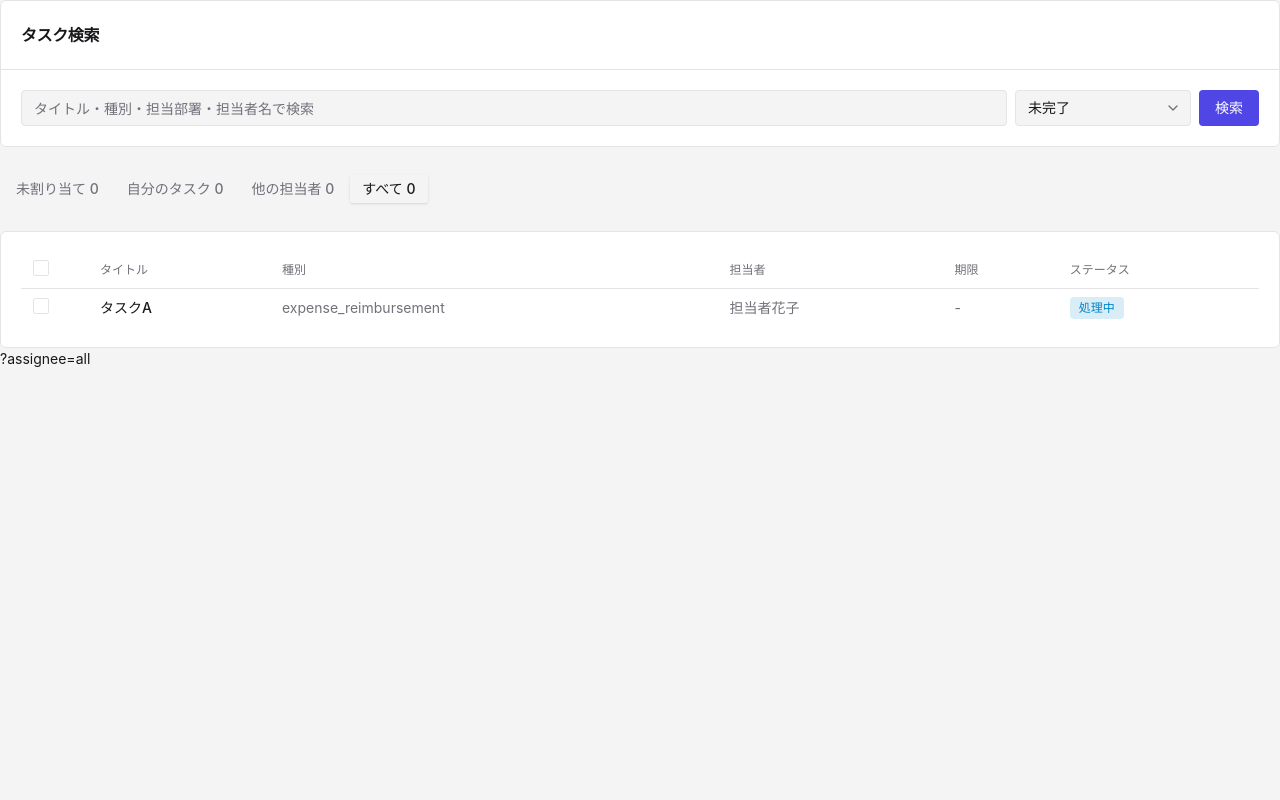
Scenario: BackOfficeTaskListPage › disables the assign action when every selected task is already assigned to the picked user
Click the checkbox named "タスクAを選択" at (41, 306), box 33,298 -> 49,314
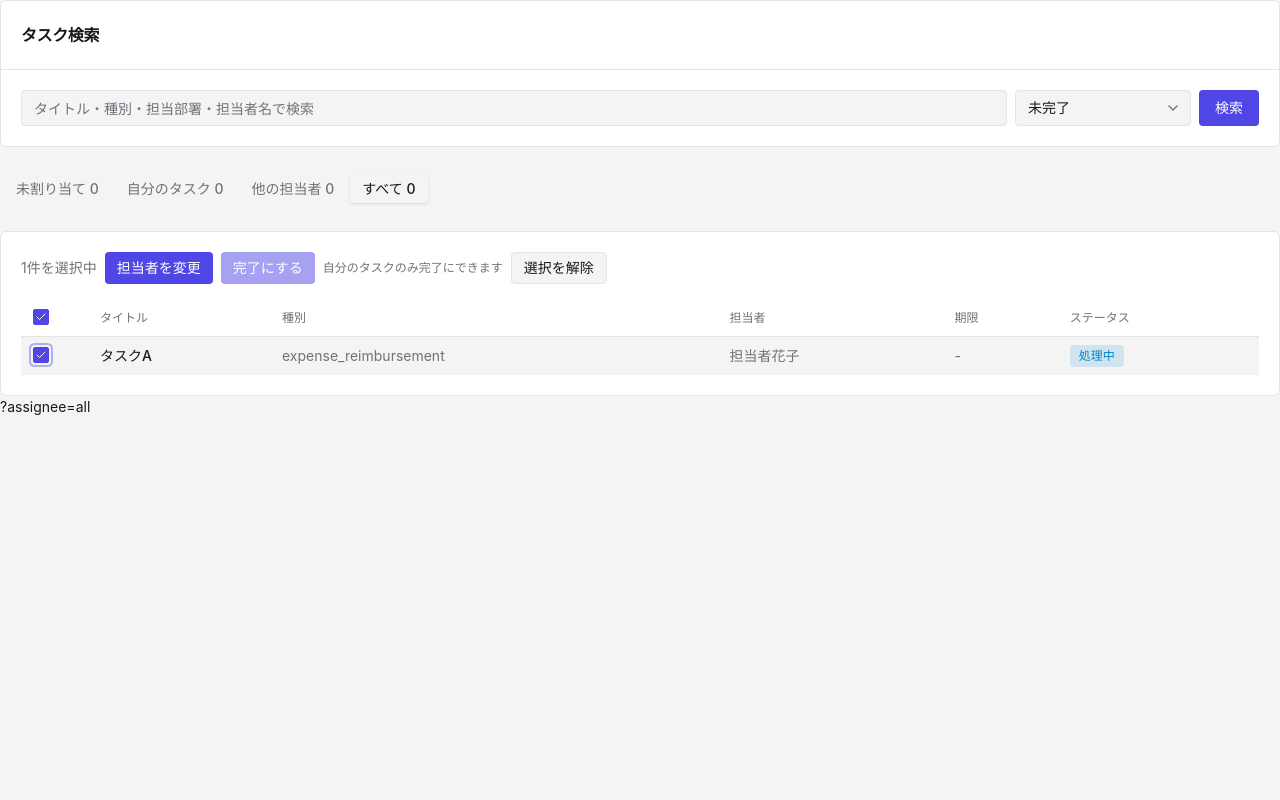
Click the button "担当者を変更" at (159, 268), box 105,252 -> 213,284
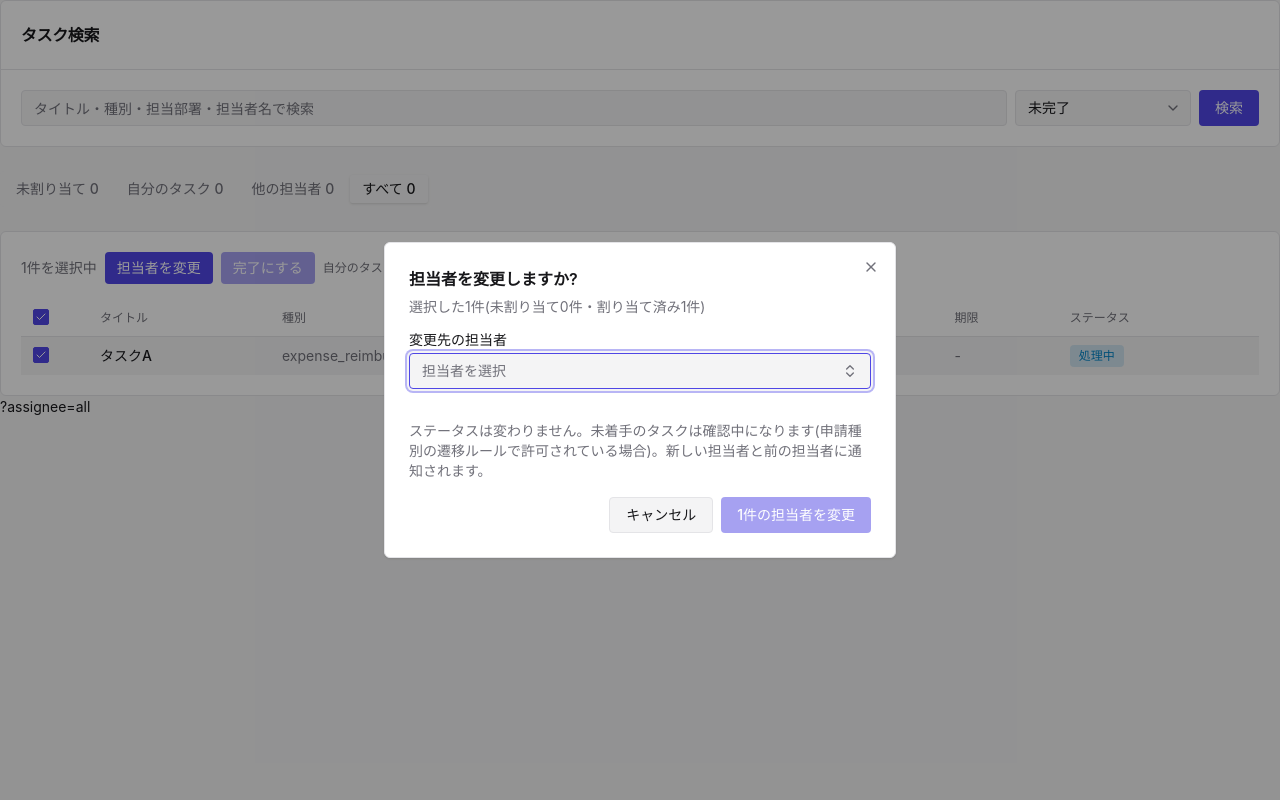
Click the dropdown with id "bulk-assignee" at (464, 370), box 409,353 -> 871,389
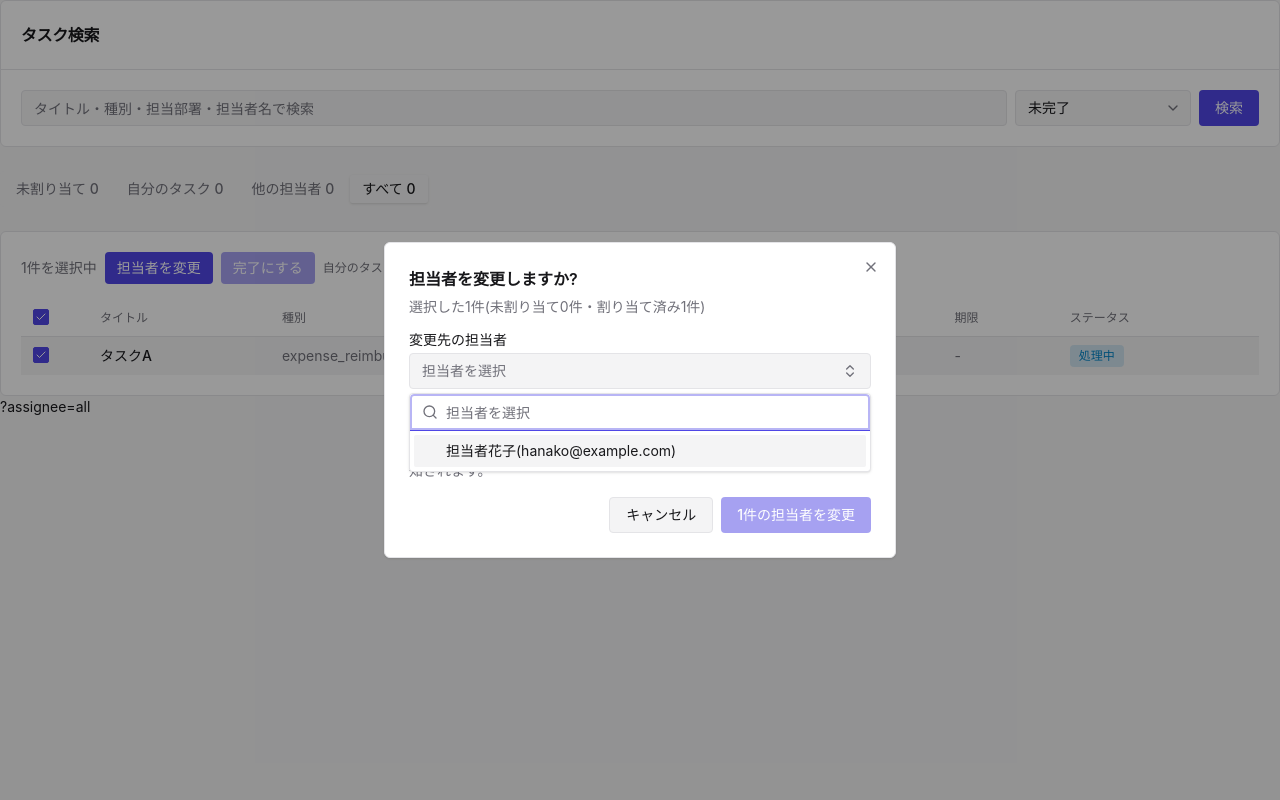
Type "花子" into the 2nd dropdown with placeholder "担当者を選択" at (652, 412), box 446,394 -> 858,430
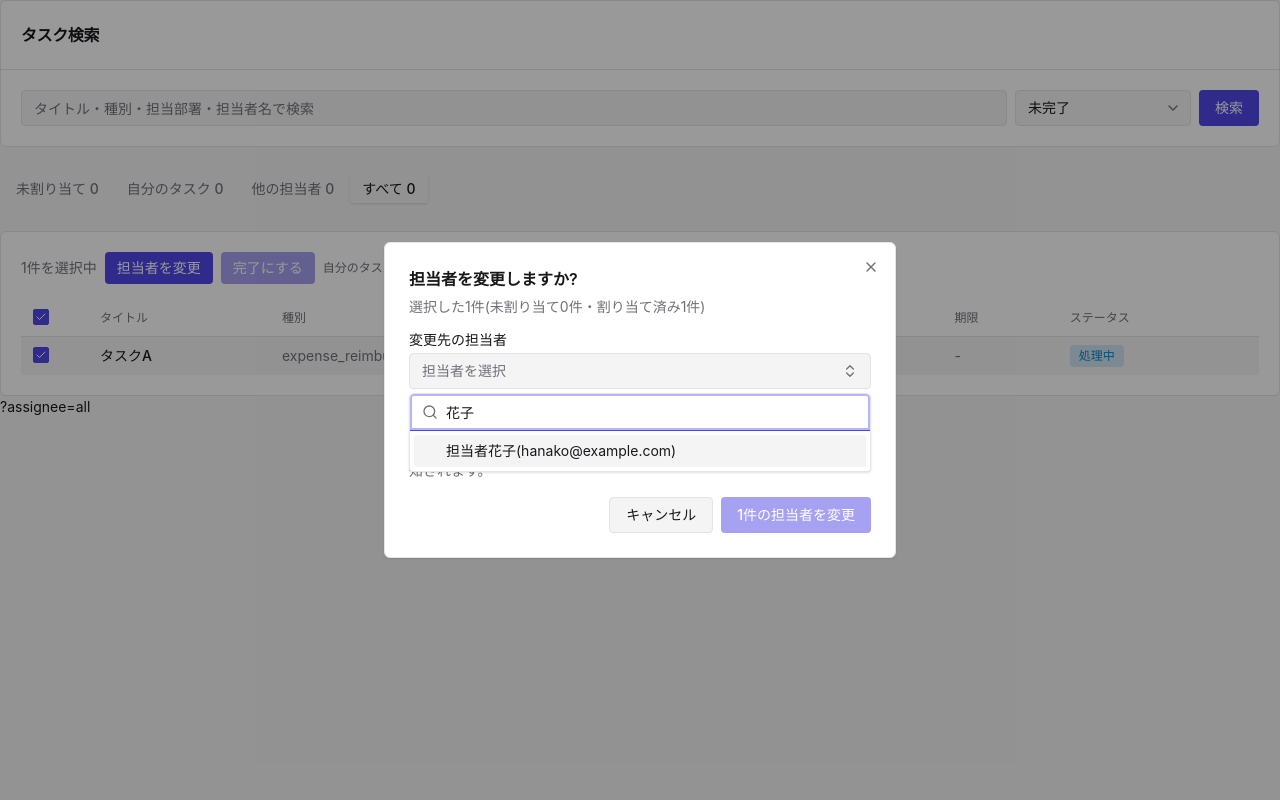
Click the option "担当者花子(hanako@example.com)" at (640, 451), box 414,435 -> 866,467
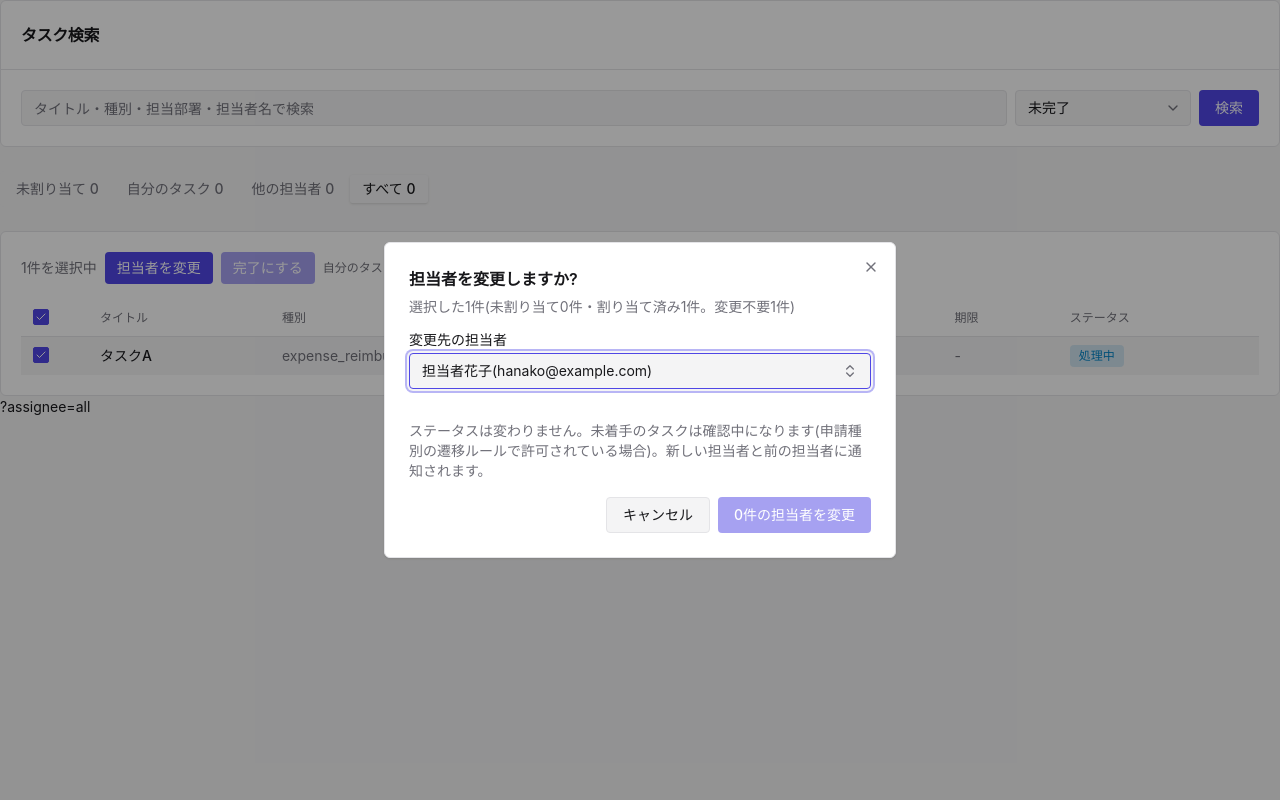
Expected: the button "0件の担当者を変更" is disabled, 718,497 -> 871,533
Expected: the text "選択した1件(未割り当て0件・割り当て済み1件。変更不要1件)" is shown, 409,298 -> 795,315
